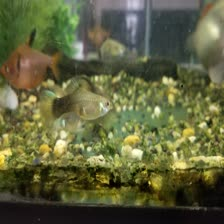Cuezo: (183, 0, 223, 85)
Guppy: (33, 85, 115, 129)
Transparente: (0, 33, 66, 93)
